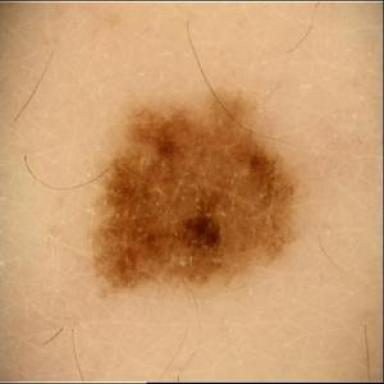Melanoma: (95, 95, 294, 286)
